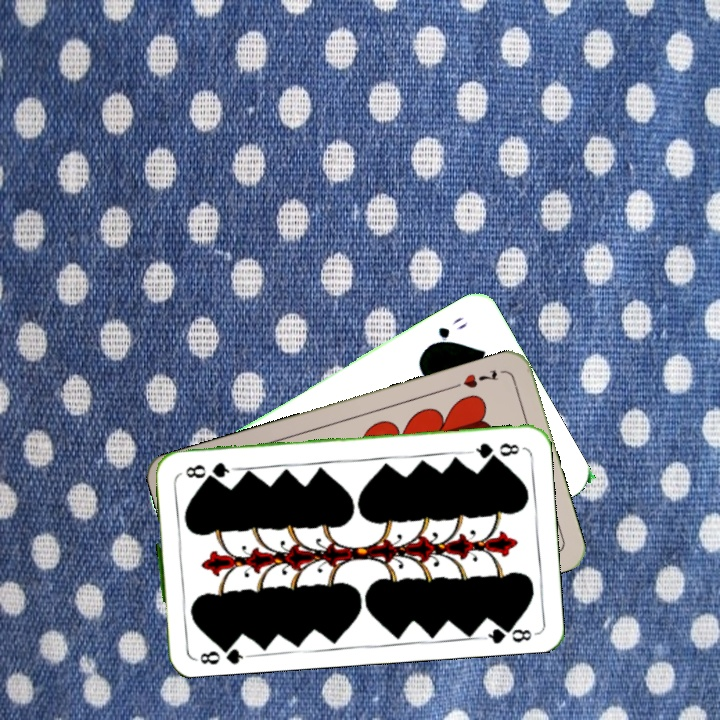G8: (190, 638, 249, 667), (466, 439, 522, 461)
GO: (423, 312, 470, 351)
H7: (448, 365, 500, 392)
